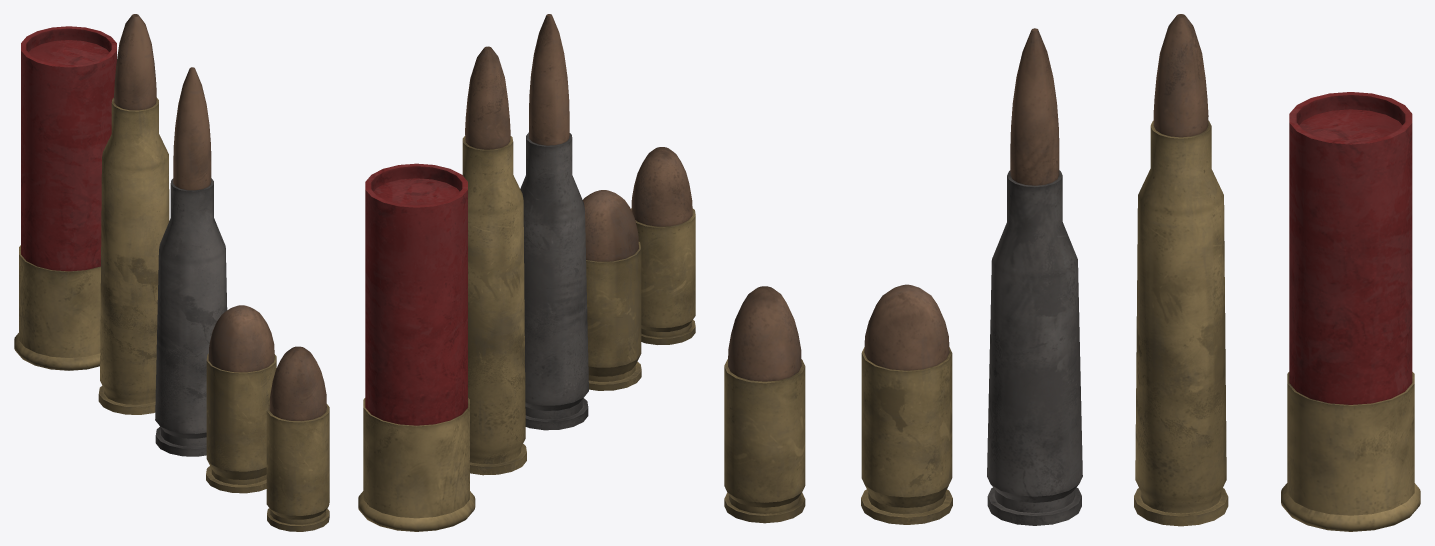
The model's file is bullet_pack_n1.glb.
The picture shows the model from 3 angles, left to right: view 1: azimuth 30°, elevation 25°; view 2: azimuth 150°, elevation 25°; view 3: azimuth 270°, elevation 25°; orthographic projection. The views are drawn at different scales.
Visible parts, largest first — view 1: 12mm, 5.56_Bullet_Pack01_0, 5.45_Bullet_Pack01_0, 45acp, 9mm; view 2: 12mm, 5.56_Bullet_Pack01_0, 5.45_Bullet_Pack01_0, 9mm, 45acp; view 3: 12mm, 5.56_Bullet_Pack01_0, 5.45_Bullet_Pack01_0, 45acp, 9mm.
Boxes of the visible parts, x1,y1,x2,y2 form: 12mm: (14,26,116,370); 5.56_Bullet_Pack01_0: (98,14,169,414); 5.45_Bullet_Pack01_0: (155,67,227,456); 45acp: (206,305,276,493); 9mm: (266,346,329,531); 12mm: (358,163,475,531); 5.56_Bullet_Pack01_0: (462,46,526,475); 5.45_Bullet_Pack01_0: (520,14,588,430); 9mm: (631,147,695,344); 45acp: (583,190,641,390); 12mm: (1281,92,1420,531); 5.56_Bullet_Pack01_0: (1134,14,1228,526); 5.45_Bullet_Pack01_0: (987,28,1082,525); 45acp: (861,284,952,524); 9mm: (724,286,805,523).
Bounding box in the file's own units: 0.2872 × 1.09 × 1.41.
Materials: 1 (1 with a texture image).
